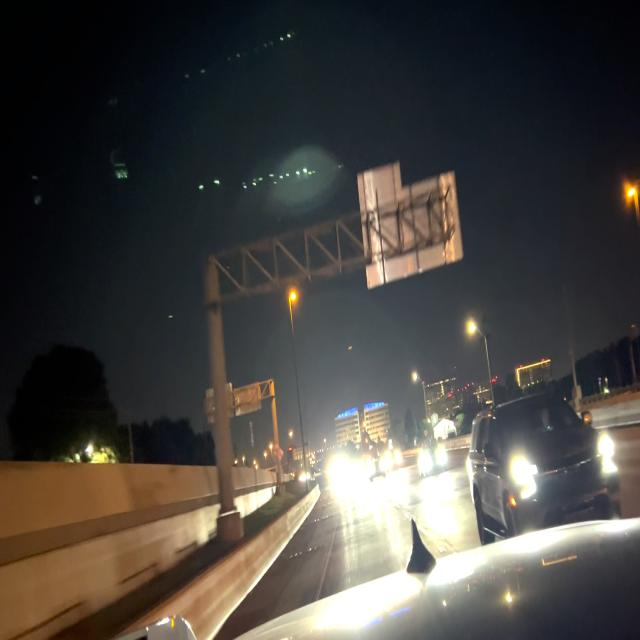back-of-sign: (356, 174, 463, 290), (354, 165, 407, 208), (234, 384, 263, 418)
